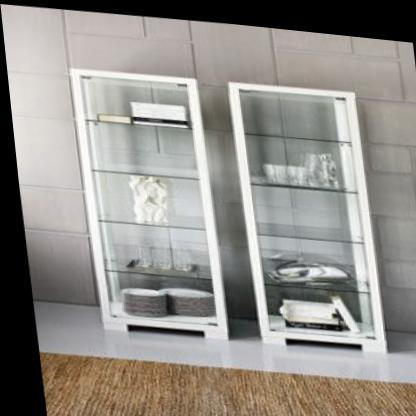Cupboard: (63, 60, 224, 342), (224, 72, 381, 351)
